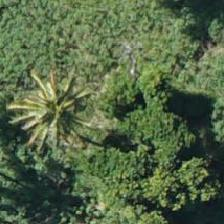coconut_tree: (0, 71, 87, 161)
